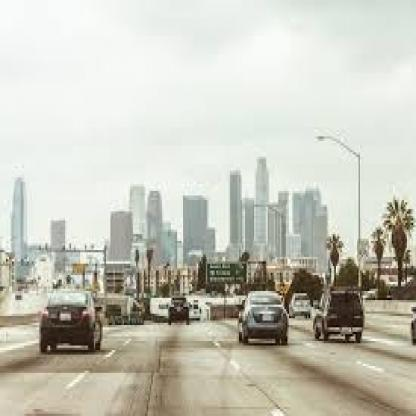car: (27, 282, 124, 369), (306, 276, 369, 354), (233, 287, 293, 359), (283, 275, 316, 324), (162, 289, 194, 332)
